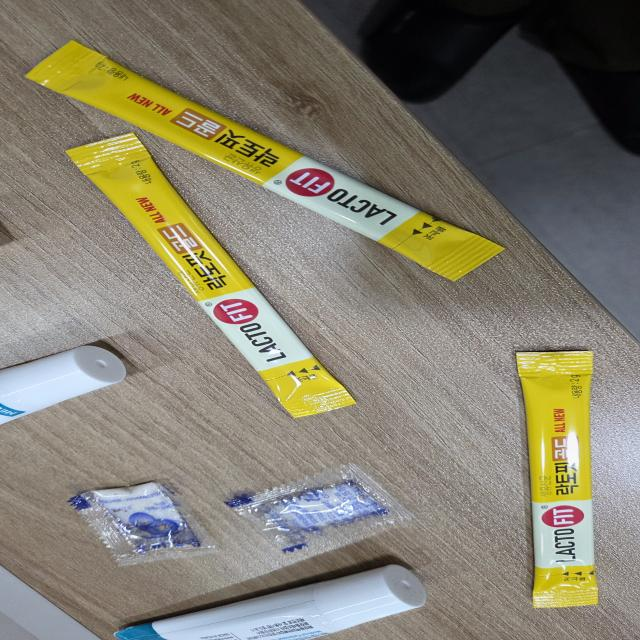lacto: (19, 40, 506, 292), (58, 133, 360, 420), (511, 350, 604, 609)
lib: (84, 565, 431, 640), (0, 345, 129, 441)
salt: (226, 462, 414, 561), (66, 474, 223, 566)
